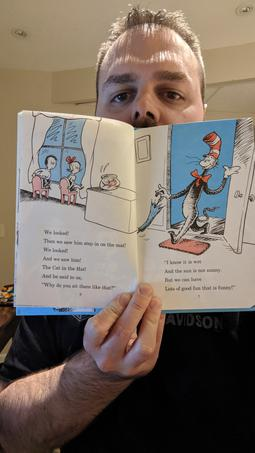text block: (37, 220, 133, 294), (164, 253, 238, 295)
